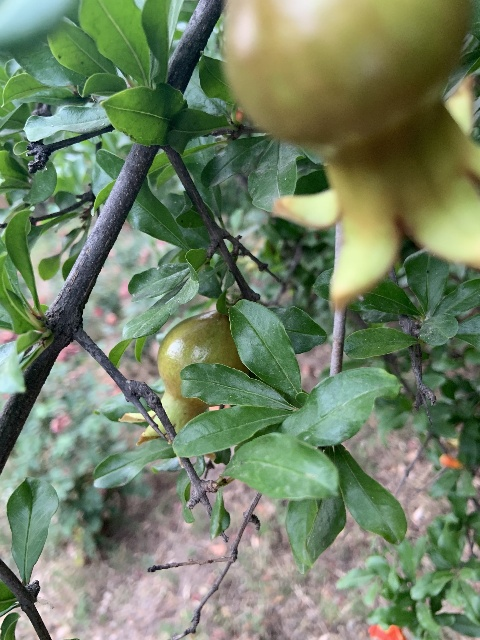bud: (439, 453, 462, 469)
flower: (367, 624, 408, 640)
mid-growth: (225, 0, 480, 313), (120, 310, 249, 452)
